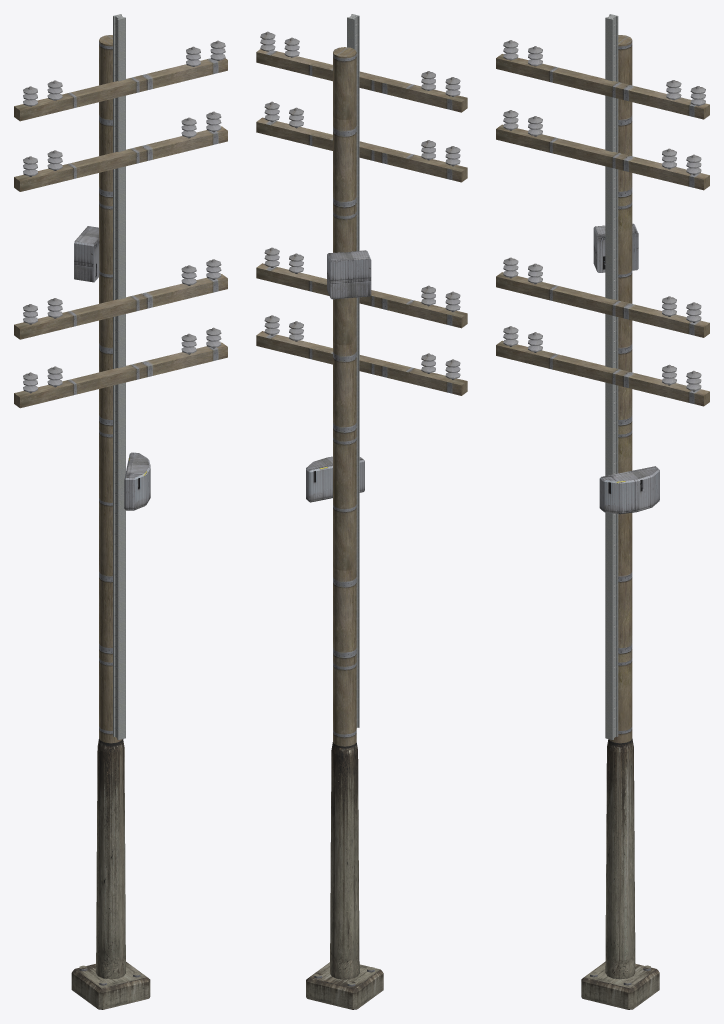
The model's file is CT_Powerpole_05.FBX.
3 views of the same model, side by side, from view 1: azimuth 30°, elevation 25°; view 2: azimuth 150°, elevation 25°; view 3: azimuth 330°, elevation 25° (orthographic).
Visible parts, largest first — view 1: CT_Powerpole_05; view 2: CT_Powerpole_05; view 3: CT_Powerpole_05.
Part boxes in pixels (x1=…): CT_Powerpole_05: x1=14, y1=14, x2=227, y2=1009; CT_Powerpole_05: x1=256, y1=14, x2=467, y2=1009; CT_Powerpole_05: x1=496, y1=14, x2=709, y2=1009.
Bounding box in the file's own units: 160 × 723 × 51.3.
